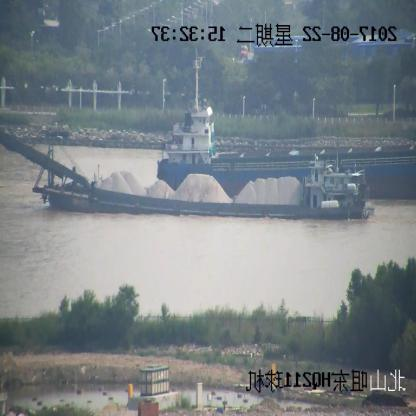Bulk Carrier: (156, 54, 416, 193)
